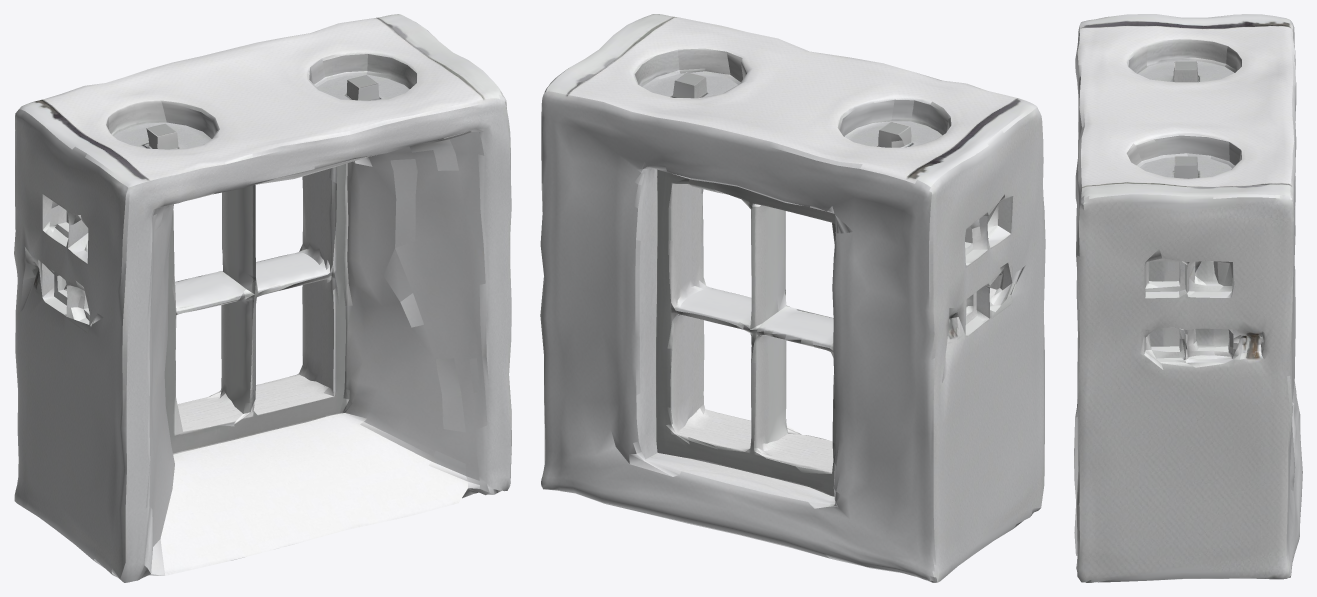
Rendered from window.glb.
3 views of the same model, side by side, from view 1: azimuth 30°, elevation 25°; view 2: azimuth 150°, elevation 25°; view 3: azimuth 270°, elevation 25° (orthographic). The views are drawn at different scales.
Visible parts, largest first — view 1: Mesh0; view 2: Mesh0; view 3: Mesh0.
Boxes of the visible parts, x1,y1,x2,y2 form: Mesh0: (14,14,511,582); Mesh0: (540,14,1045,582); Mesh0: (1074,14,1302,582).
Bounding box in the file's own units: 1.9 × 1.87 × 0.9888.
Materials: 1 (1 with a texture image).
